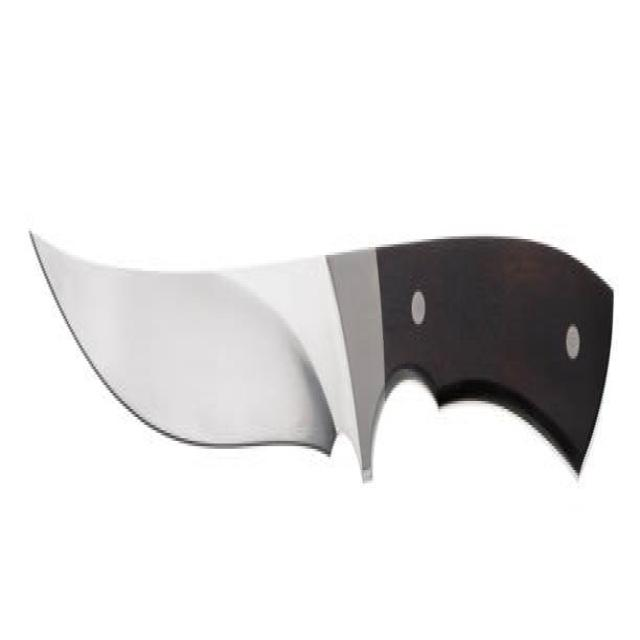knife: (25, 215, 618, 508)
